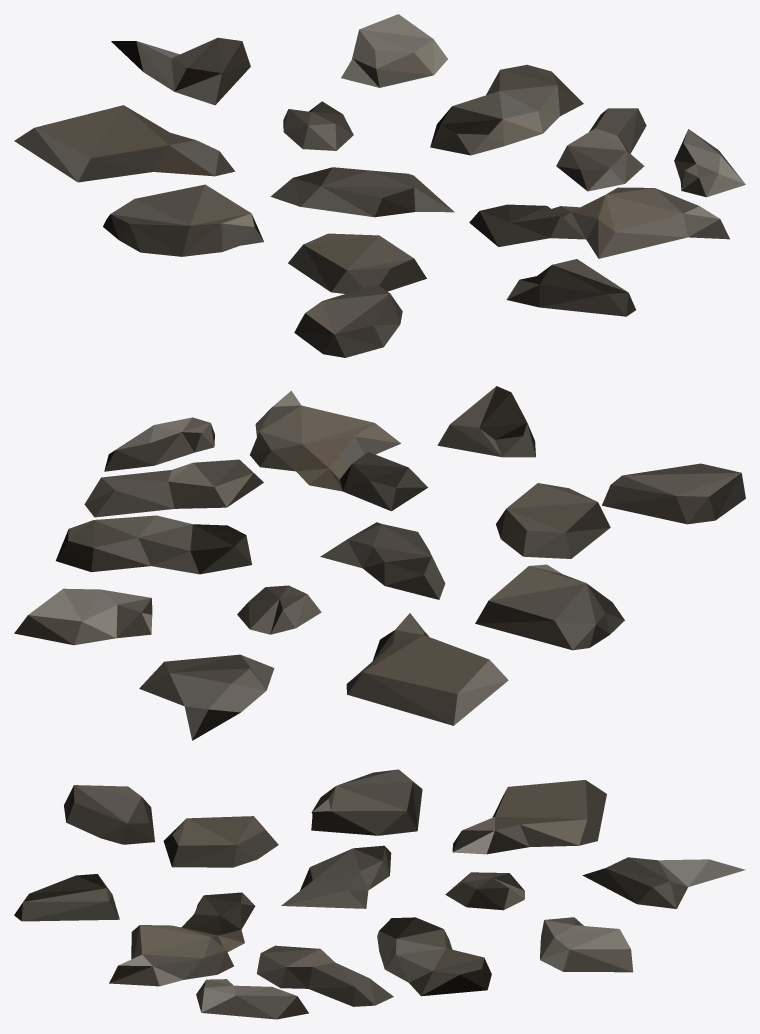
Rendered from Decal-Rocks_D.fbx.
3 views of the same model, one above another, from view 1: azimuth 30°, elevation 25°; view 2: azimuth 150°, elevation 25°; view 3: azimuth 270°, elevation 25° (orthographic). The views are drawn at different scales.
Visible parts, largest first — view 1: Decal-Rocks_D; view 2: Decal-Rocks_D; view 3: Decal-Rocks_D.
Part boxes in pixels (x1,y1,x2,y2): Decal-Rocks_D: [14, 14, 745, 357]; Decal-Rocks_D: [14, 386, 745, 740]; Decal-Rocks_D: [14, 769, 745, 1019].
Bounding box in the file's own units: 252 × 9.57 × 331.
